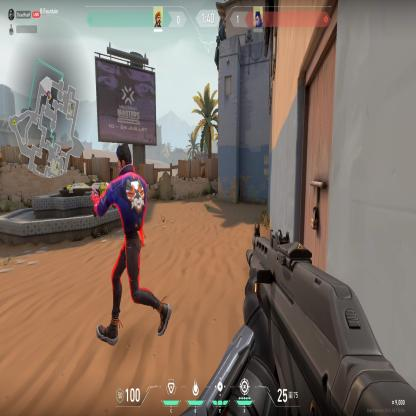enemy: (93, 143, 173, 362)
